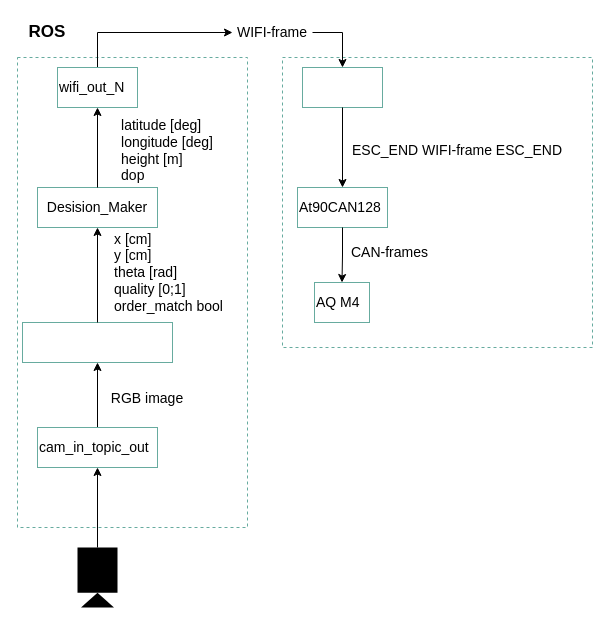
Image size: 610x624. Some labels were removed from this diagram. The box of each missing label's shape, as (x1, y1, x2, y2) in pixels:
ESP-8266: (302, 66, 382, 108)
MarkerLocator_trackN: (22, 322, 172, 362)
